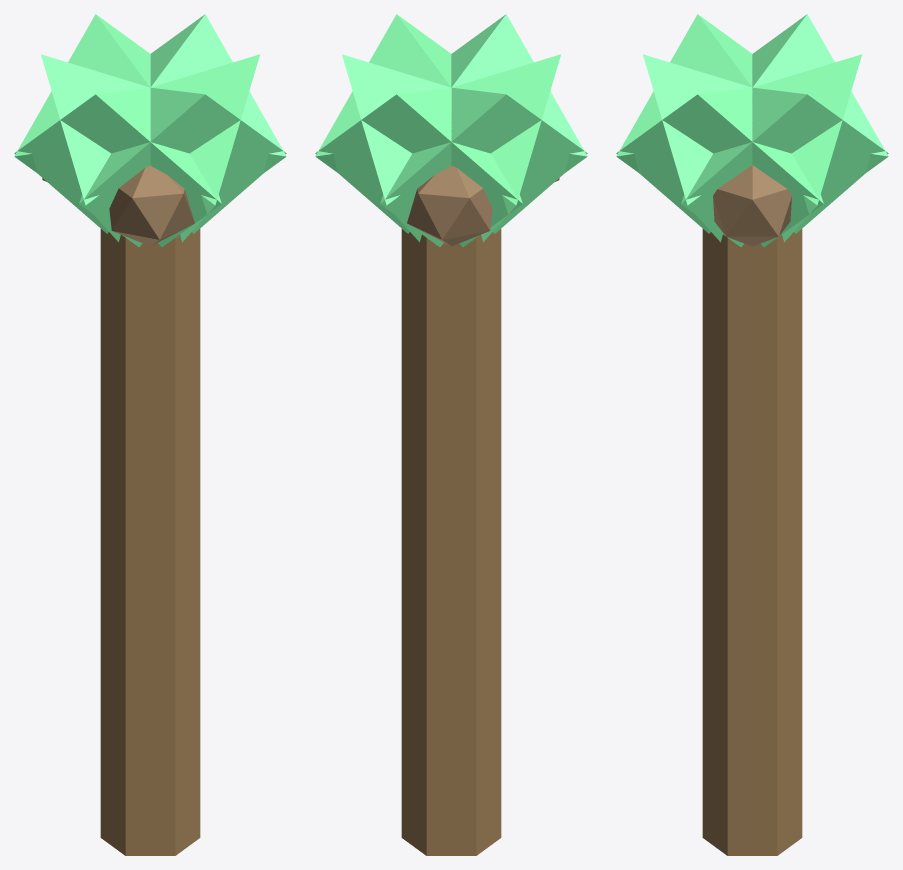
File: tree_palm.glb
3 views of the same model, side by side, from view 1: azimuth 30°, elevation 25°; view 2: azimuth 150°, elevation 25°; view 3: azimuth 270°, elevation 25° (orthographic).
Visible parts, largest first — view 1: tree_palm; view 2: tree_palm; view 3: tree_palm.
Part boxes in pixels (x1=…): tree_palm: x1=14, y1=14, x2=286, y2=855; tree_palm: x1=315, y1=14, x2=587, y2=855; tree_palm: x1=616, y1=14, x2=888, y2=855.
Size of the model in its own units: 0.2447 by 0.865 by 0.2727.
